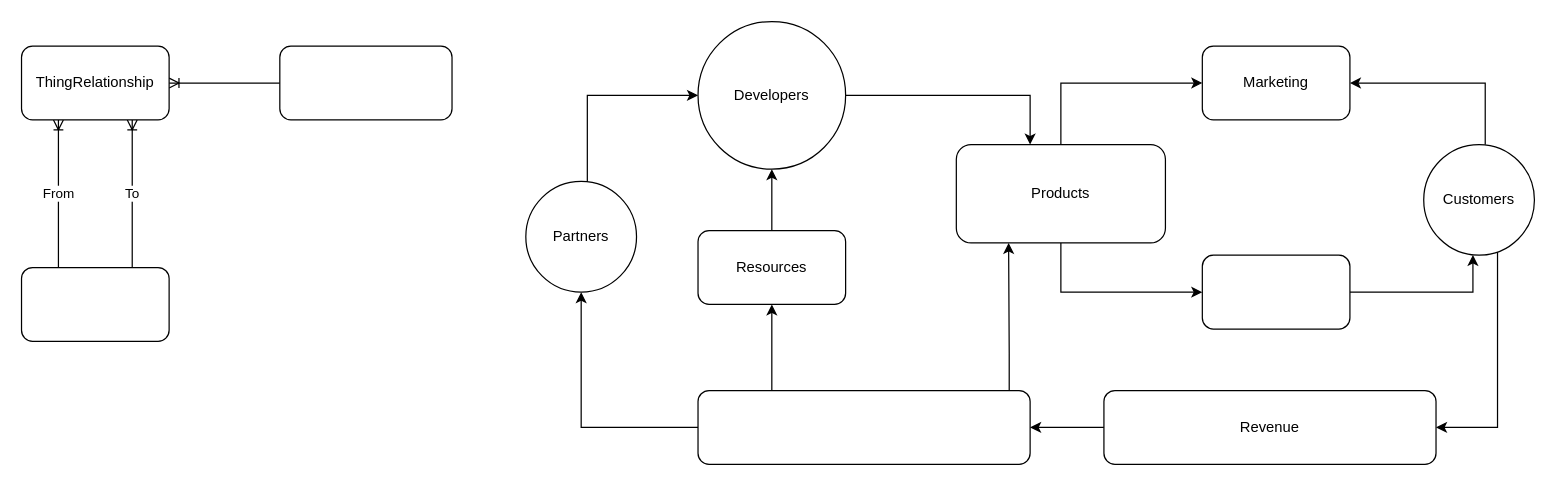
Some shapes in this 1556 by 486 pixel diagram are drawn without their labels. The shapes that lost their labels are listed below. From the top down, each one's centre as x and y in pixels, then its label:
At (x=365, y=82): "ThingRelationshipType".
At (x=94, y=303): "Thing".
At (x=1275, y=291): "Delivery".
At (x=863, y=426): "Cost".
